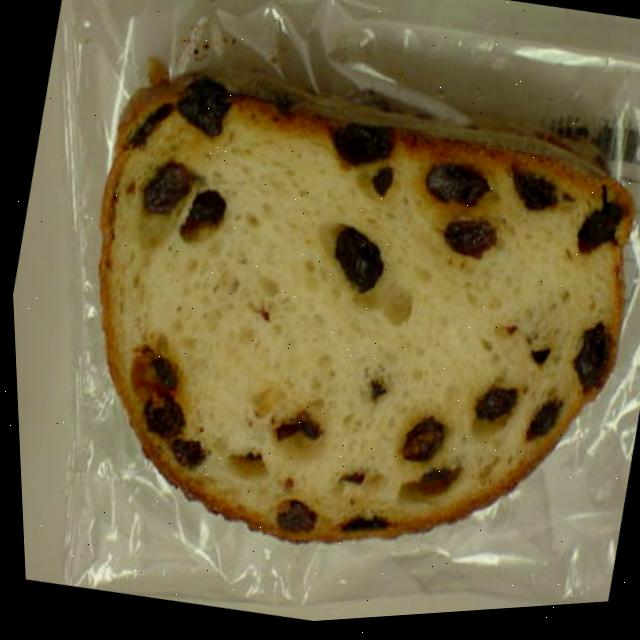面包点心: (27, 36, 640, 609)
